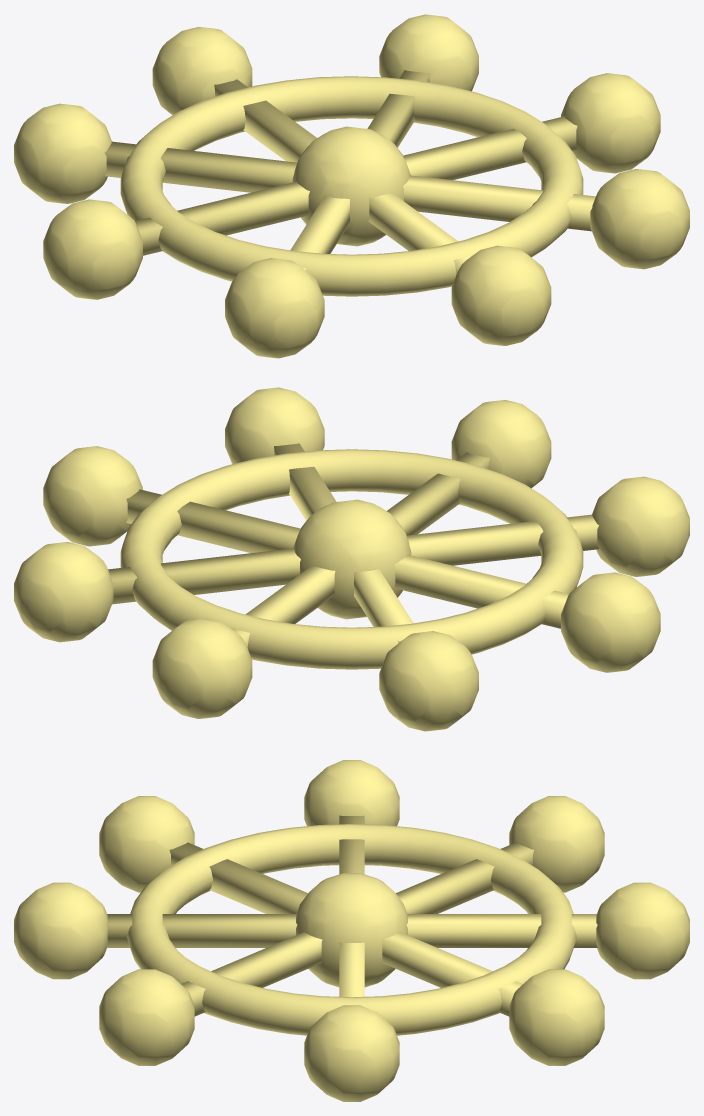
Rendered from Mahoraga Wheel ani.glb.
3 renders of one model, top to bottom at view 1: azimuth 30°, elevation 25°; view 2: azimuth 150°, elevation 25°; view 3: azimuth 270°, elevation 25°, orthographic. The views are drawn at different scales.
Visible parts, largest first — view 1: Torus.003; view 2: Torus.003; view 3: Torus.003.
Part boxes in pixels (x1,y1,x2,y2): Torus.003: (14,14,689,358); Torus.003: (14,387,689,731); Torus.003: (14,760,689,1101).
Size of the model in its own units: 3.96 by 0.6709 by 3.96.
